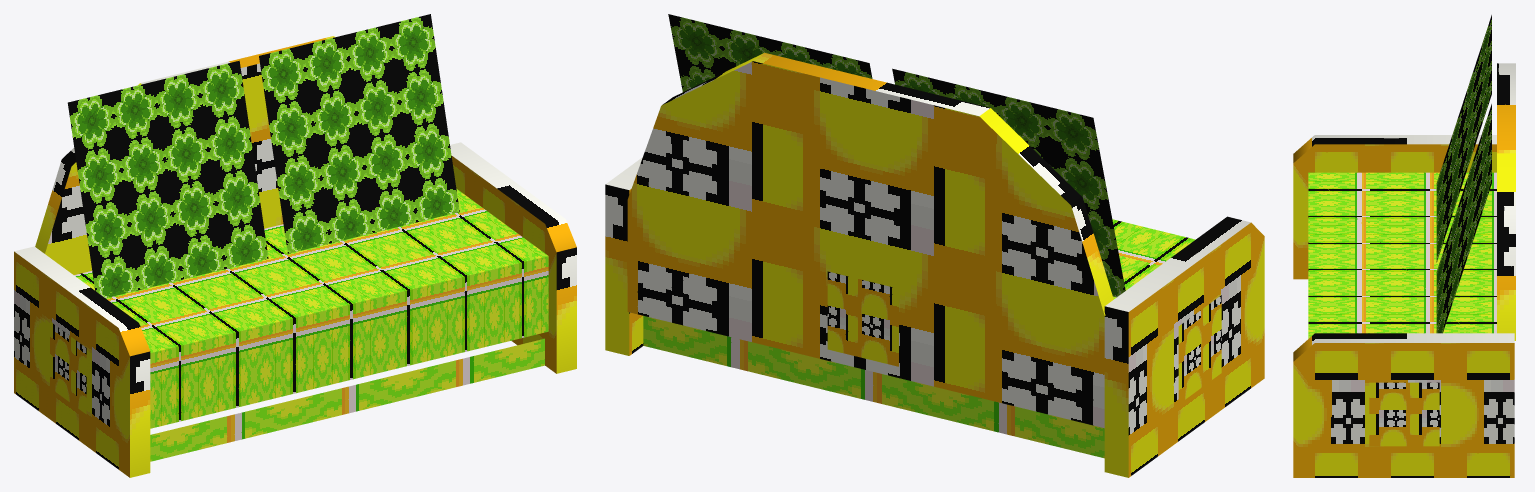
File: 3849kg3_ser30.gltf
The picture shows the model from 3 angles, left to right: view 1: azimuth 30°, elevation 25°; view 2: azimuth 150°, elevation 25°; view 3: azimuth 270°, elevation 25°; orthographic projection. The views are drawn at different scales.
Visible parts, largest first — view 1: 3849kg3_ser30; view 2: 3849kg3_ser30; view 3: 3849kg3_ser30.
Boxes of the visible parts, x1=… form: 3849kg3_ser30: x1=14, y1=14, x2=576, y2=477; 3849kg3_ser30: x1=605, y1=14, x2=1264, y2=477; 3849kg3_ser30: x1=1293, y1=15, x2=1515, y2=477.
Bounding box in the file's own units: 1.86 × 1.13 × 0.8489.
3 materials, 3 textured.
